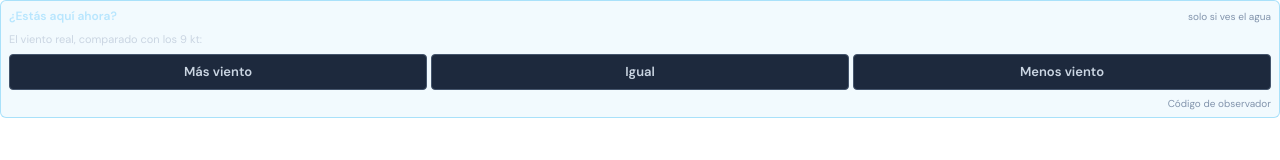
Test: SpotReportBox with a personal observer code › anonymous: no knots question and no knots sent; the code can be typed in
Click the button "Código de observador": x=1219, y=103 x1=1168 y1=96 x2=1271 y2=110
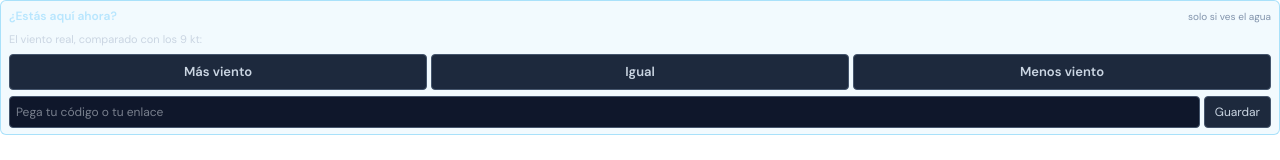
In the field named "Código de observador": x=604, y=112 x1=9 y1=96 x2=1200 y2=128, type "https://meteomapgal.com/?obs=abcdefgh23456k"
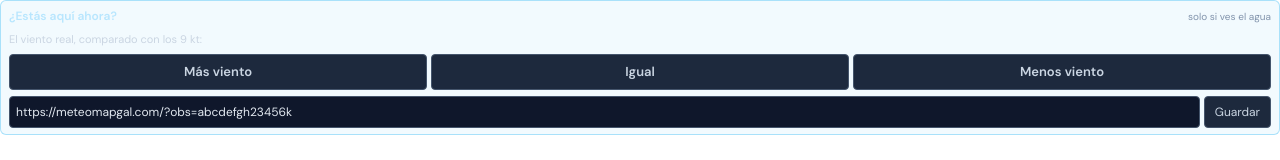
Click the button "Guardar": x=1237, y=112 x1=1204 y1=96 x2=1271 y2=128
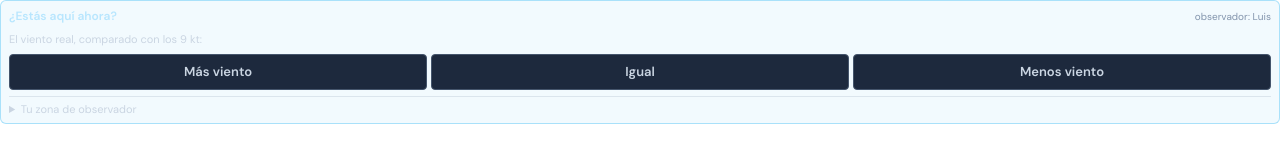
Check: the text "observador: Luis" is shown, box x1=1195 y1=9 x2=1271 y2=24
